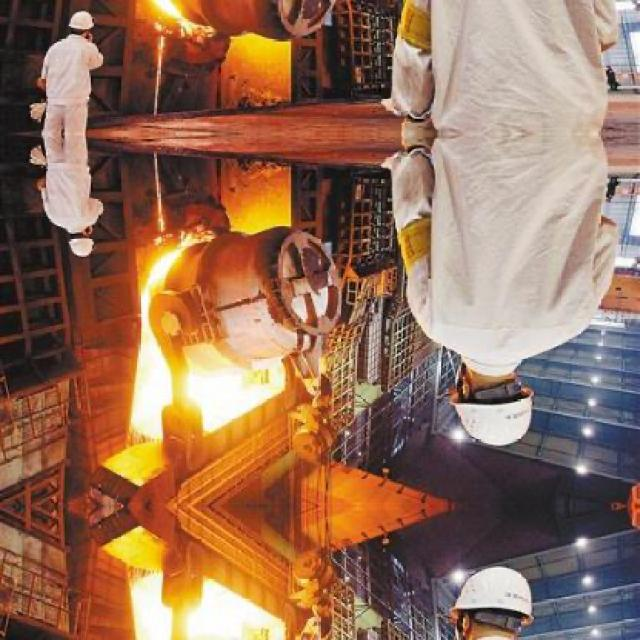con casco: (430, 338, 558, 458), (62, 236, 105, 266)
